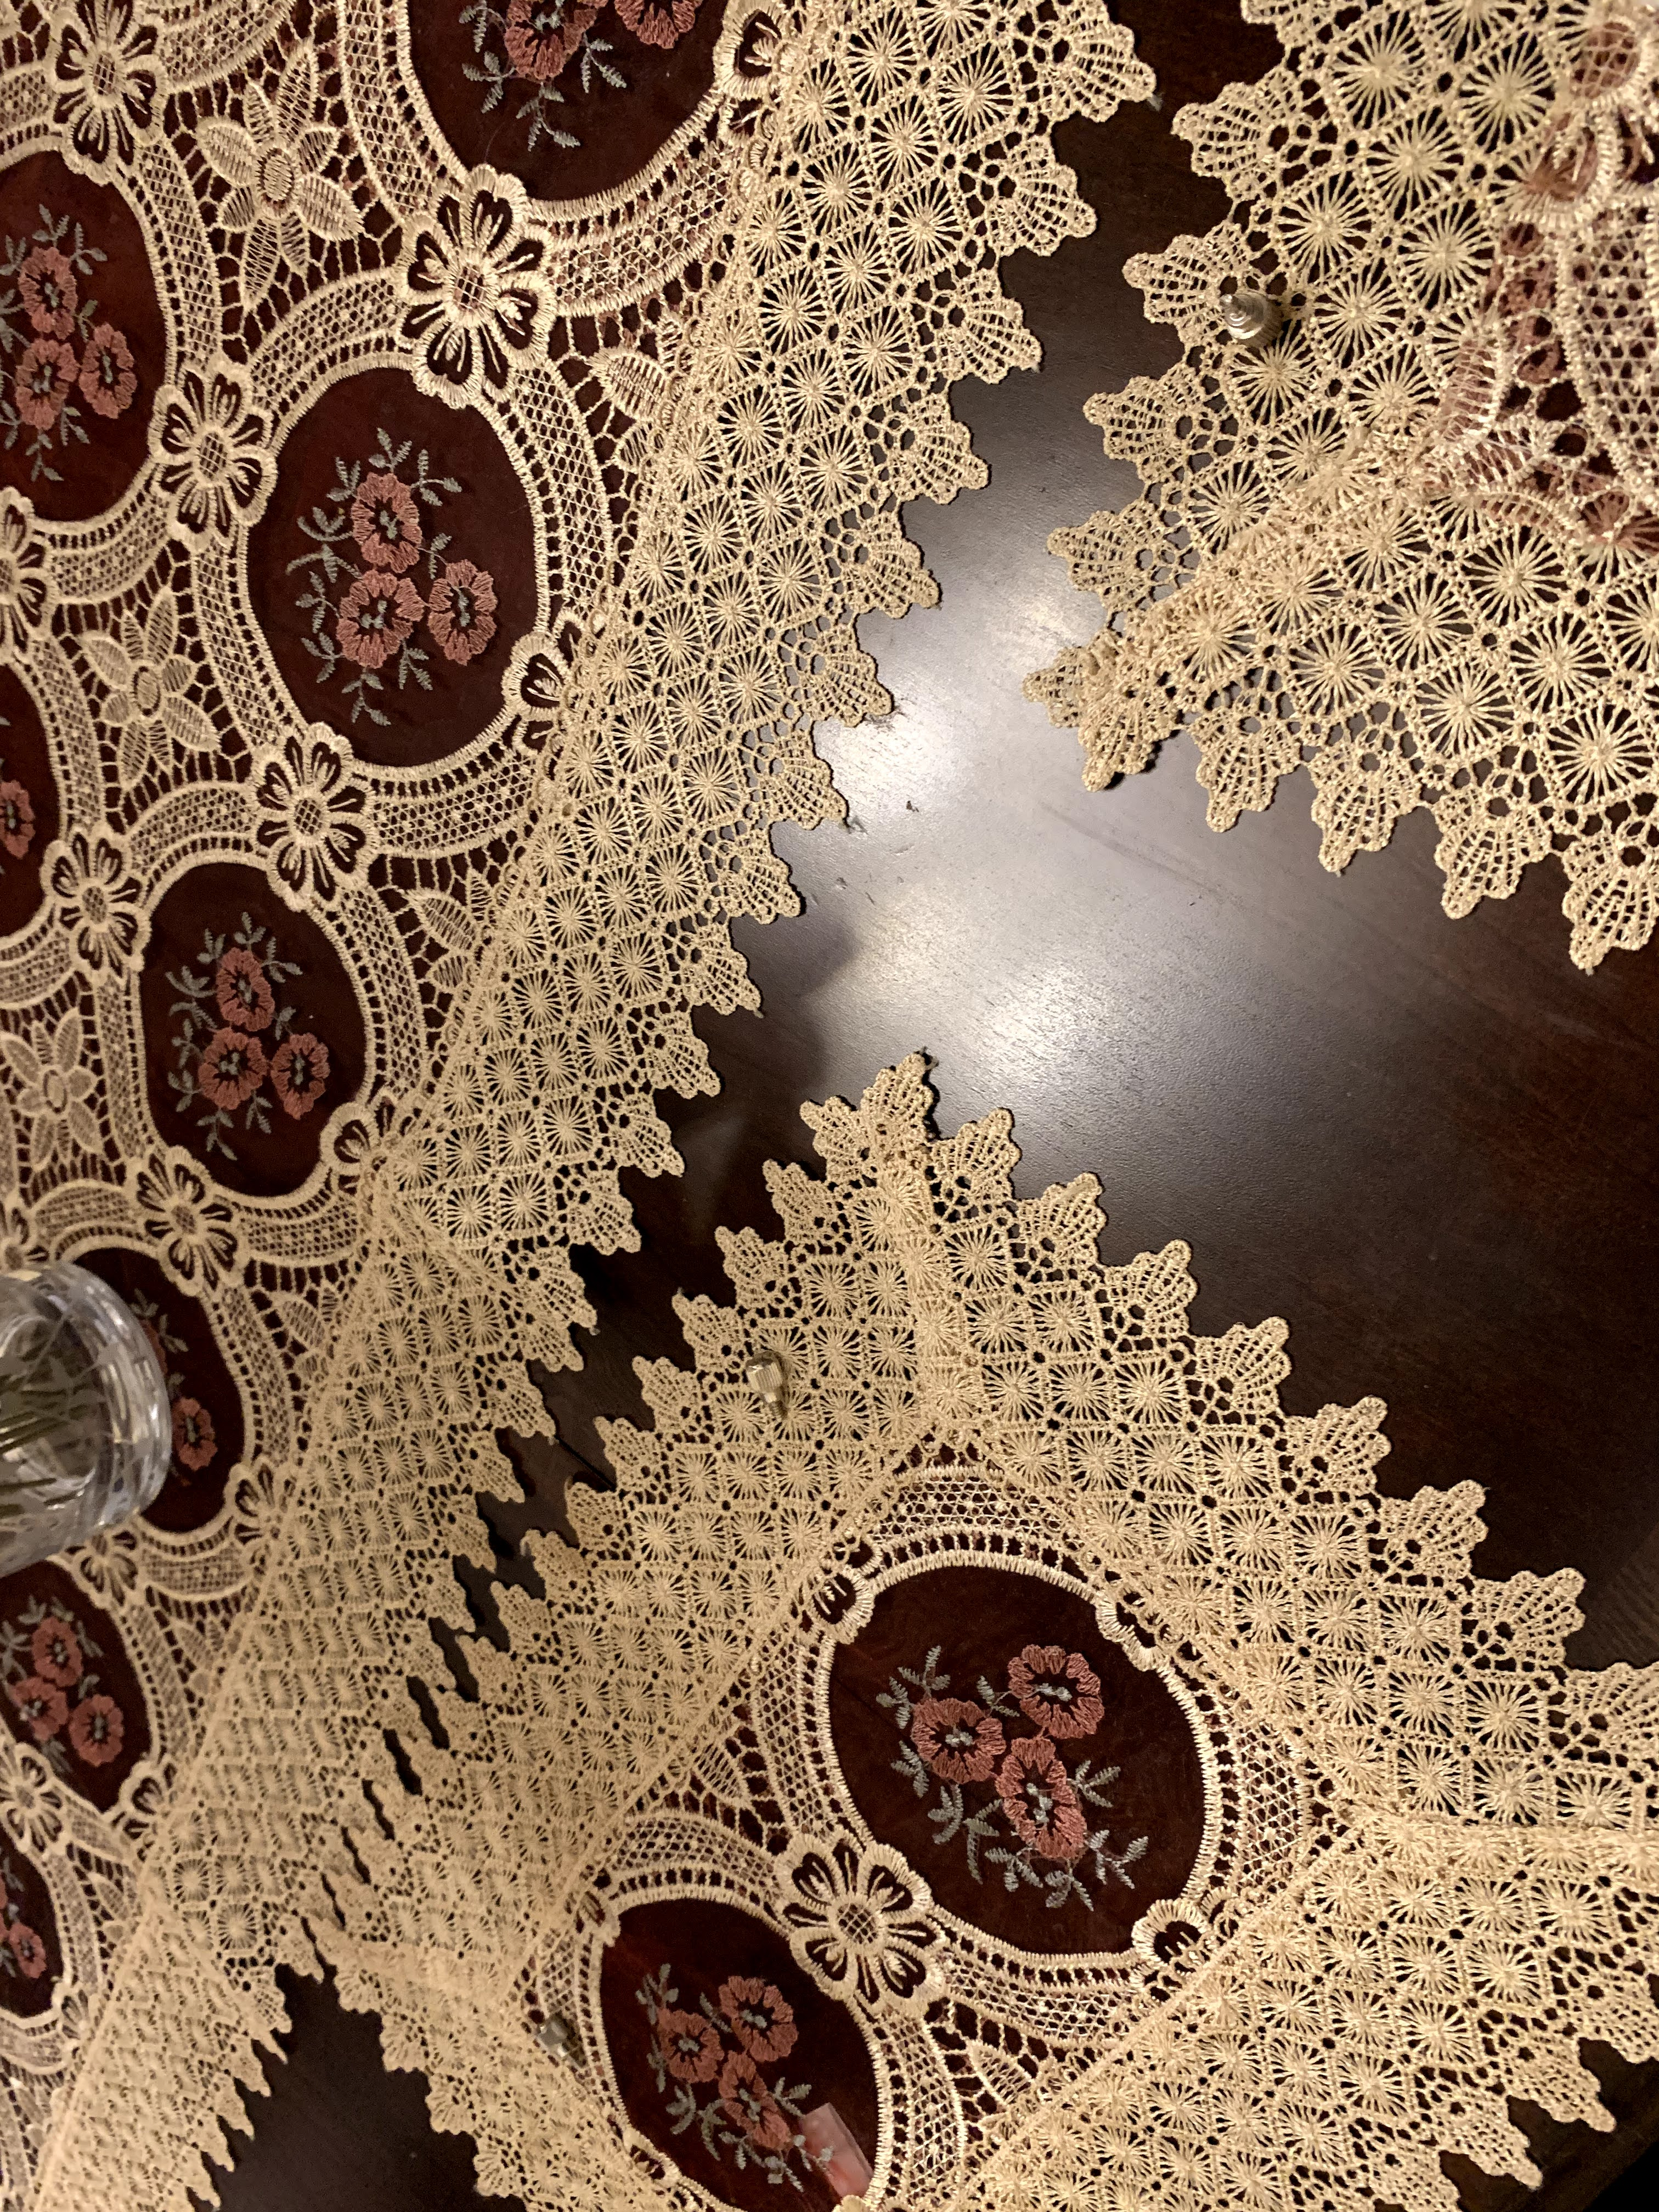Space-debris-small: (1202, 265, 1293, 359), (730, 1341, 805, 1430)
